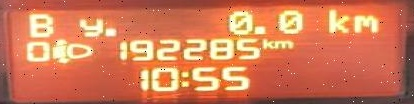-: (103, 26, 116, 36), (252, 25, 265, 34)
0: (148, 66, 178, 91), (276, 9, 302, 34), (226, 10, 252, 35), (24, 41, 48, 61)
1: (138, 68, 148, 90), (117, 40, 127, 59)
2: (154, 37, 179, 60), (181, 38, 206, 59)
5: (189, 66, 218, 91), (219, 66, 249, 90), (235, 38, 259, 59)
8: (208, 38, 233, 59)
9: (128, 39, 152, 60)
X: (27, 14, 53, 38), (326, 8, 349, 33), (352, 14, 377, 33), (77, 17, 102, 36), (272, 39, 292, 48), (178, 71, 188, 87), (261, 38, 274, 49)
